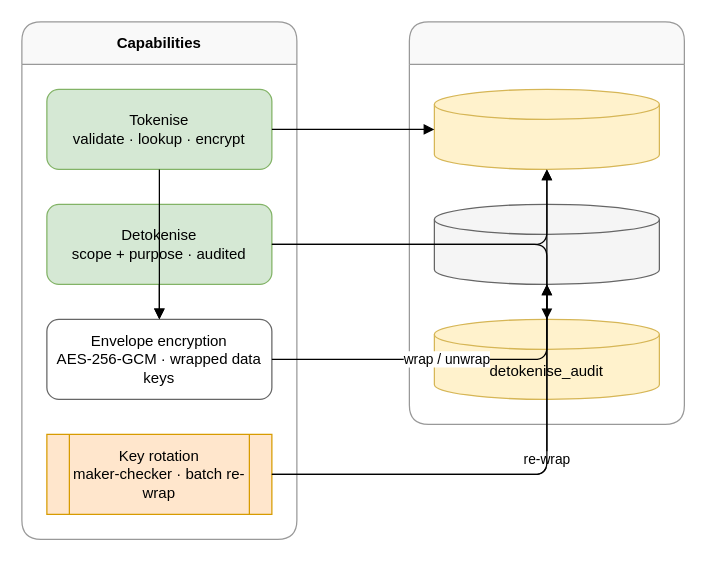
The diagram is 706 pixels wide and 561 high, and some of its shapes have lost their labels. The shapes that lost their labels are listed below. From the top down, each one's box as (x1, y1, x2, y2) in pixels, then its label:
(433, 88, 659, 169): card_token ciphertext · IV · wrapped key · KEK version · HMAC · last4
(408, 21, 684, 424): Data
(433, 203, 659, 284): KEK versions (in KMS; never in the DB)
